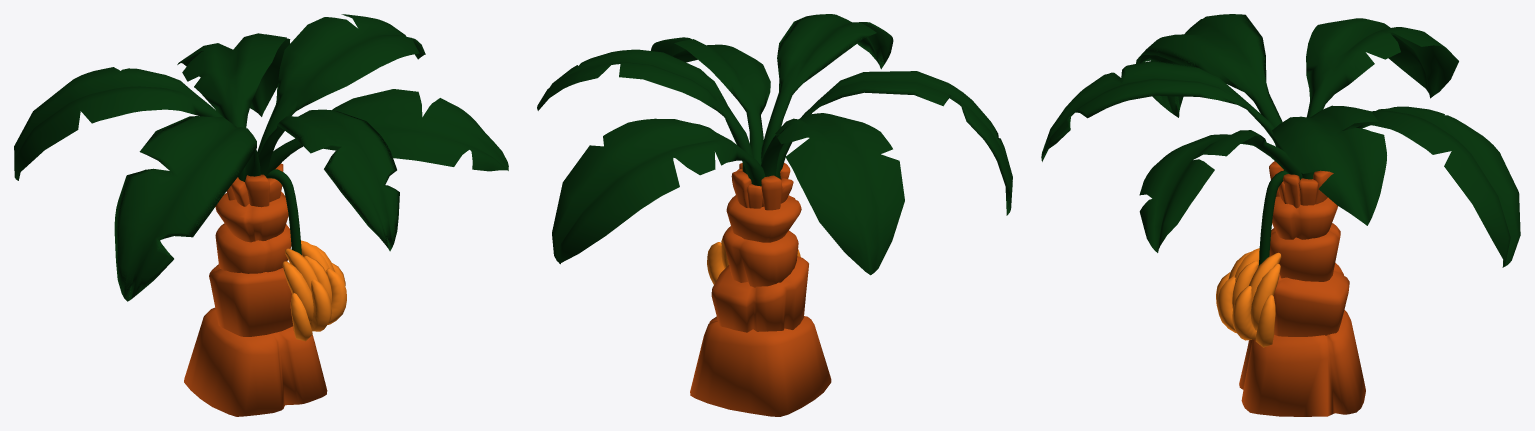
File: BananaTree_banana.fbx
3 renders of one model, left to right at view 1: azimuth 30°, elevation 25°; view 2: azimuth 150°, elevation 25°; view 3: azimuth 270°, elevation 25°, orthographic. The views are drawn at different scales.
Parts seen in each view (by area): view 1: leaf_6, Wood1, leaf_3, leaf_5, leaf_2, leaf_1, leaf_4, Wood2, Wood3, Wood4, stam, banana_2 (+5 smaller); view 2: leaf_4, leaf_5, Wood1, leaf_1, leaf_3, leaf_6, Wood2, leaf_2, Wood3, Wood4, Wood12, banana_4 (+1 smaller); view 3: Wood1, leaf_4, leaf_5, leaf_3, leaf_6, leaf_2, leaf_1, Wood2, Wood3, Wood4, stam, banana_3 (+7 smaller).
Boxes of the visible parts, box(x1,y1,x2,y2) form: leaf_6: box(114, 116, 260, 301); Wood1: box(184, 307, 327, 416); leaf_3: box(257, 14, 425, 155); leaf_5: box(14, 67, 244, 180); leaf_2: box(266, 89, 508, 175); leaf_1: box(258, 109, 399, 251); leaf_4: box(177, 33, 290, 127); Wood2: box(209, 264, 293, 336); Wood3: box(215, 223, 291, 273); Wood4: box(215, 192, 288, 242); stam: box(267, 169, 301, 254); banana_2: box(310, 279, 331, 331); leaf_4: box(552, 118, 765, 264); leaf_5: box(761, 113, 904, 275); Wood1: box(690, 316, 831, 416); leaf_1: box(761, 14, 893, 162); leaf_3: box(537, 49, 753, 174); leaf_6: box(776, 71, 1012, 215); Wood2: box(711, 256, 808, 332); leaf_2: box(651, 37, 770, 165); Wood3: box(722, 226, 798, 287); Wood4: box(726, 195, 801, 242); Wood12: box(761, 175, 782, 210); banana_4: box(707, 242, 724, 284); Wood1: box(1239, 310, 1365, 416); leaf_4: box(1342, 106, 1520, 267); leaf_5: box(1306, 18, 1458, 117); leaf_3: box(1272, 105, 1386, 225); leaf_6: box(1136, 14, 1284, 170); leaf_2: box(1139, 130, 1302, 252); leaf_1: box(1041, 60, 1284, 161); Wood2: box(1269, 256, 1349, 336); Wood3: box(1269, 223, 1340, 281); Wood4: box(1272, 196, 1337, 239); stam: box(1258, 170, 1288, 265); banana_3: box(1232, 286, 1256, 340).
Bounding box in the file's own units: 8642 × 6773 × 9012.
